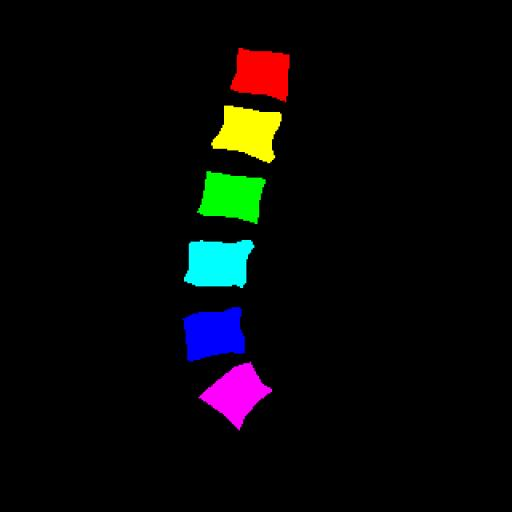L1: (230, 48, 290, 102)
L2: (211, 106, 282, 162)
L3: (198, 171, 265, 224)
L4: (184, 240, 254, 288)
L5: (183, 307, 245, 361)
S1: (199, 362, 272, 430)
